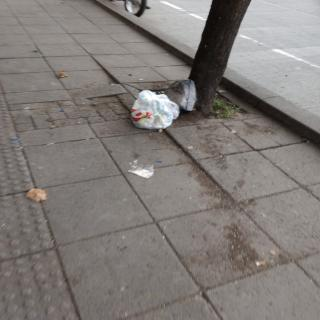Garbage: (128, 87, 186, 133), (164, 78, 202, 114)
